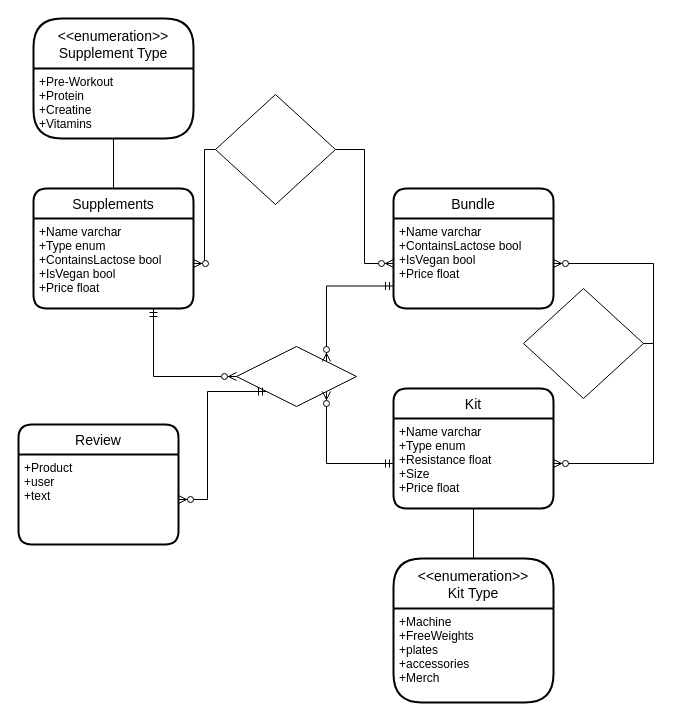
The diagram is 679 pixels wide and 720 high, and some of its shapes have lost their labels. The centre of each missing label's shape, as x and y in pixels:
"Bundle can contain Kit" belongs at [583,343].
"Bundle can contain Supplements" belongs at [275,149].
"Review describes" belongs at [296,376].
